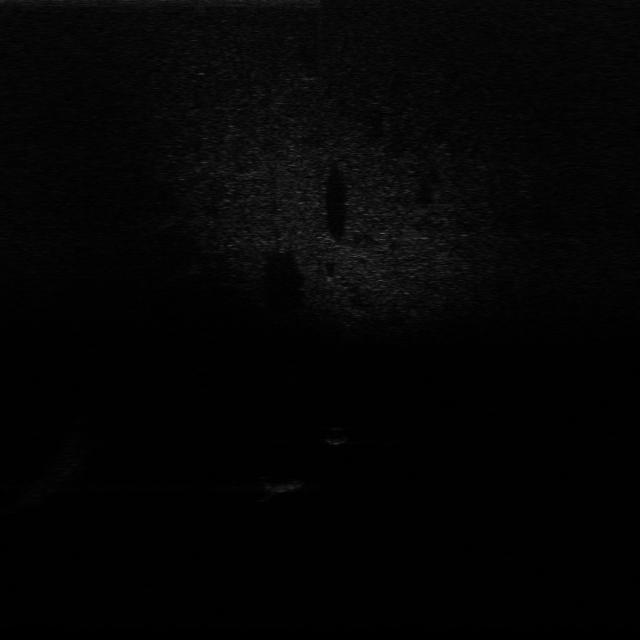ball: (322, 427, 351, 446)
square cage: (258, 476, 311, 495)
